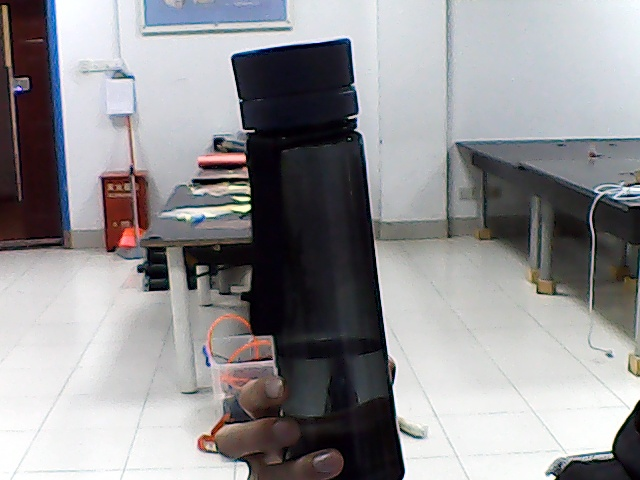cup: (269, 78, 368, 389)
